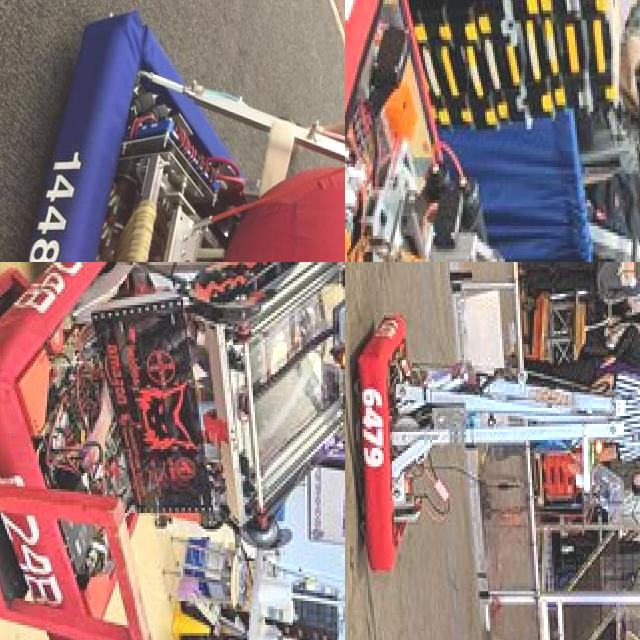FRC-Robots: (0, 262, 345, 614), (0, 0, 345, 262), (345, 302, 634, 578), (345, 0, 640, 262)
